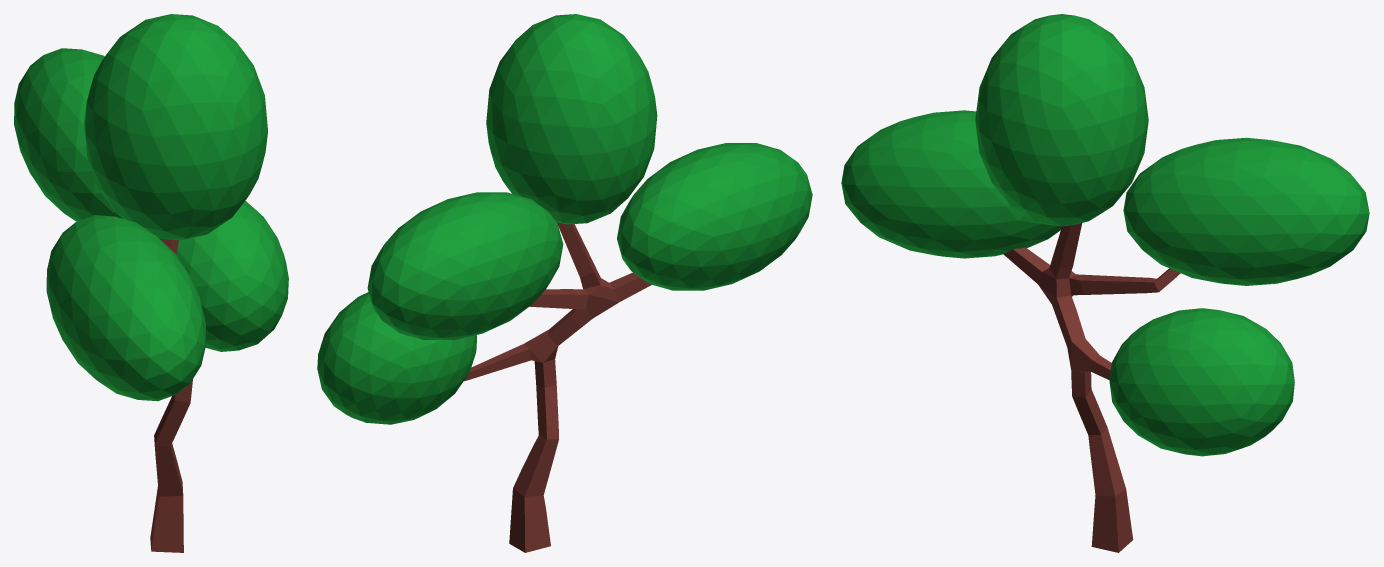
File: tree link.fbx
3 views of the same model, side by side, from view 1: azimuth 30°, elevation 25°; view 2: azimuth 150°, elevation 25°; view 3: azimuth 270°, elevation 25° (orthographic). The views are drawn at different scales.
Visible parts, largest first — view 1: Cube; view 2: Cube; view 3: Cube.
Part boxes in pixels (<box>): Cube: <box>14,14,288,552</box>; Cube: <box>317,14,812,552</box>; Cube: <box>841,14,1369,552</box>.
Size of the model in its own units: 607 by 928 by 861.
